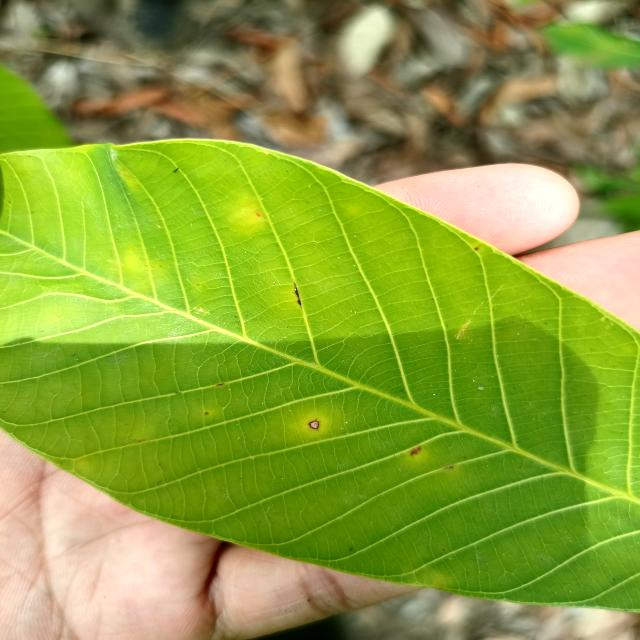Colletotrichum: (308, 420, 320, 429)
